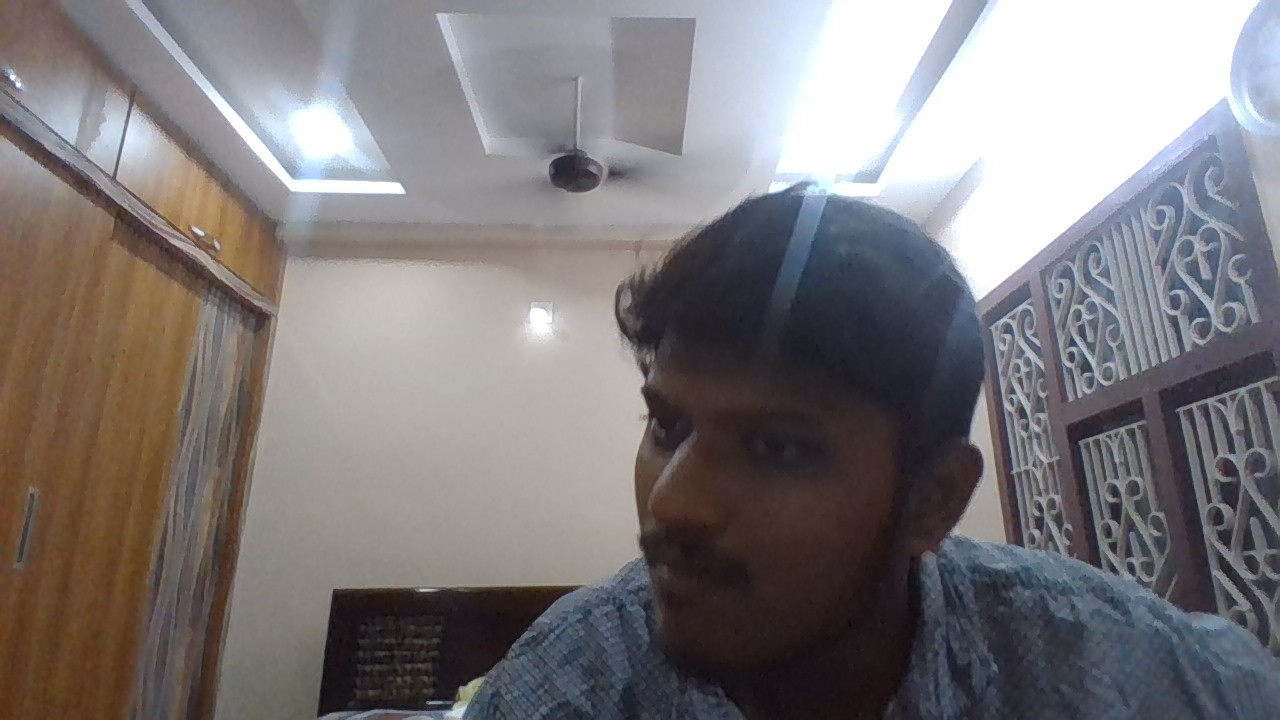person: (575, 163, 1095, 720)
